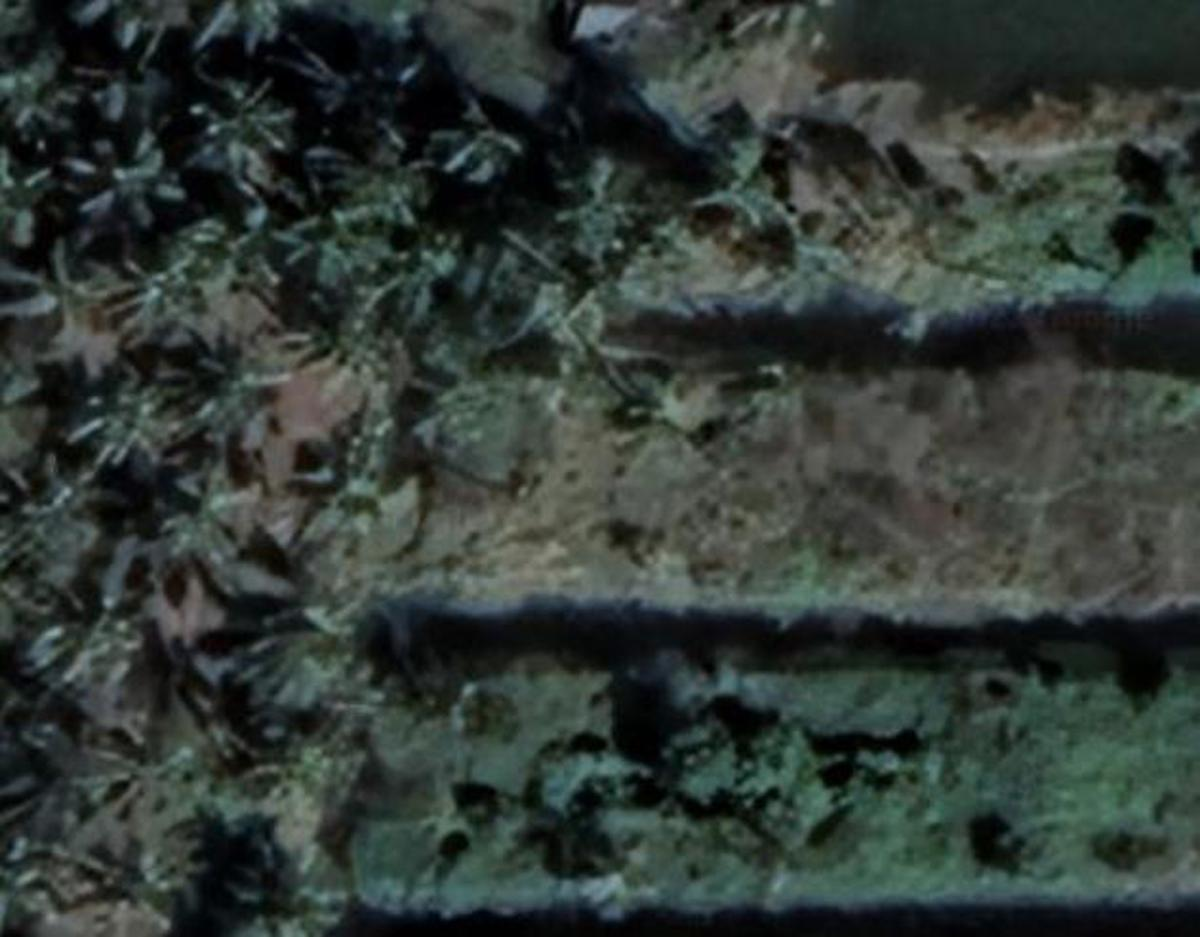coconut: (240, 580, 371, 712), (22, 550, 148, 679), (224, 820, 360, 937), (291, 422, 413, 546), (695, 131, 819, 247), (62, 356, 186, 466), (60, 127, 182, 234), (179, 337, 291, 449), (0, 447, 100, 565), (335, 127, 445, 234), (64, 837, 180, 937), (419, 91, 531, 194), (613, 359, 733, 455), (184, 78, 291, 182), (173, 203, 285, 300), (371, 219, 476, 318), (142, 445, 241, 548), (552, 139, 657, 236), (272, 190, 373, 287), (300, 270, 394, 373), (116, 243, 213, 340), (95, 723, 200, 811), (5, 234, 99, 329), (0, 47, 62, 137)
